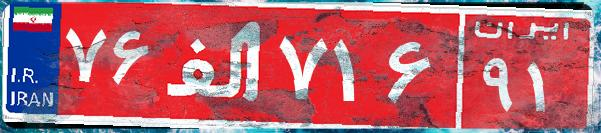1: (330, 28, 385, 110), (525, 38, 570, 115)
6: (385, 28, 445, 110), (110, 28, 158, 105)
7: (273, 28, 330, 110), (57, 26, 110, 107)
9: (475, 38, 525, 113)
الف: (158, 15, 273, 115)
